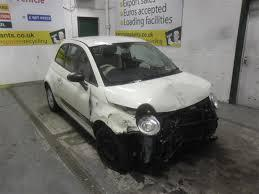fender-dent: (94, 93, 140, 130)
front-bumper-dent: (160, 119, 205, 150)
